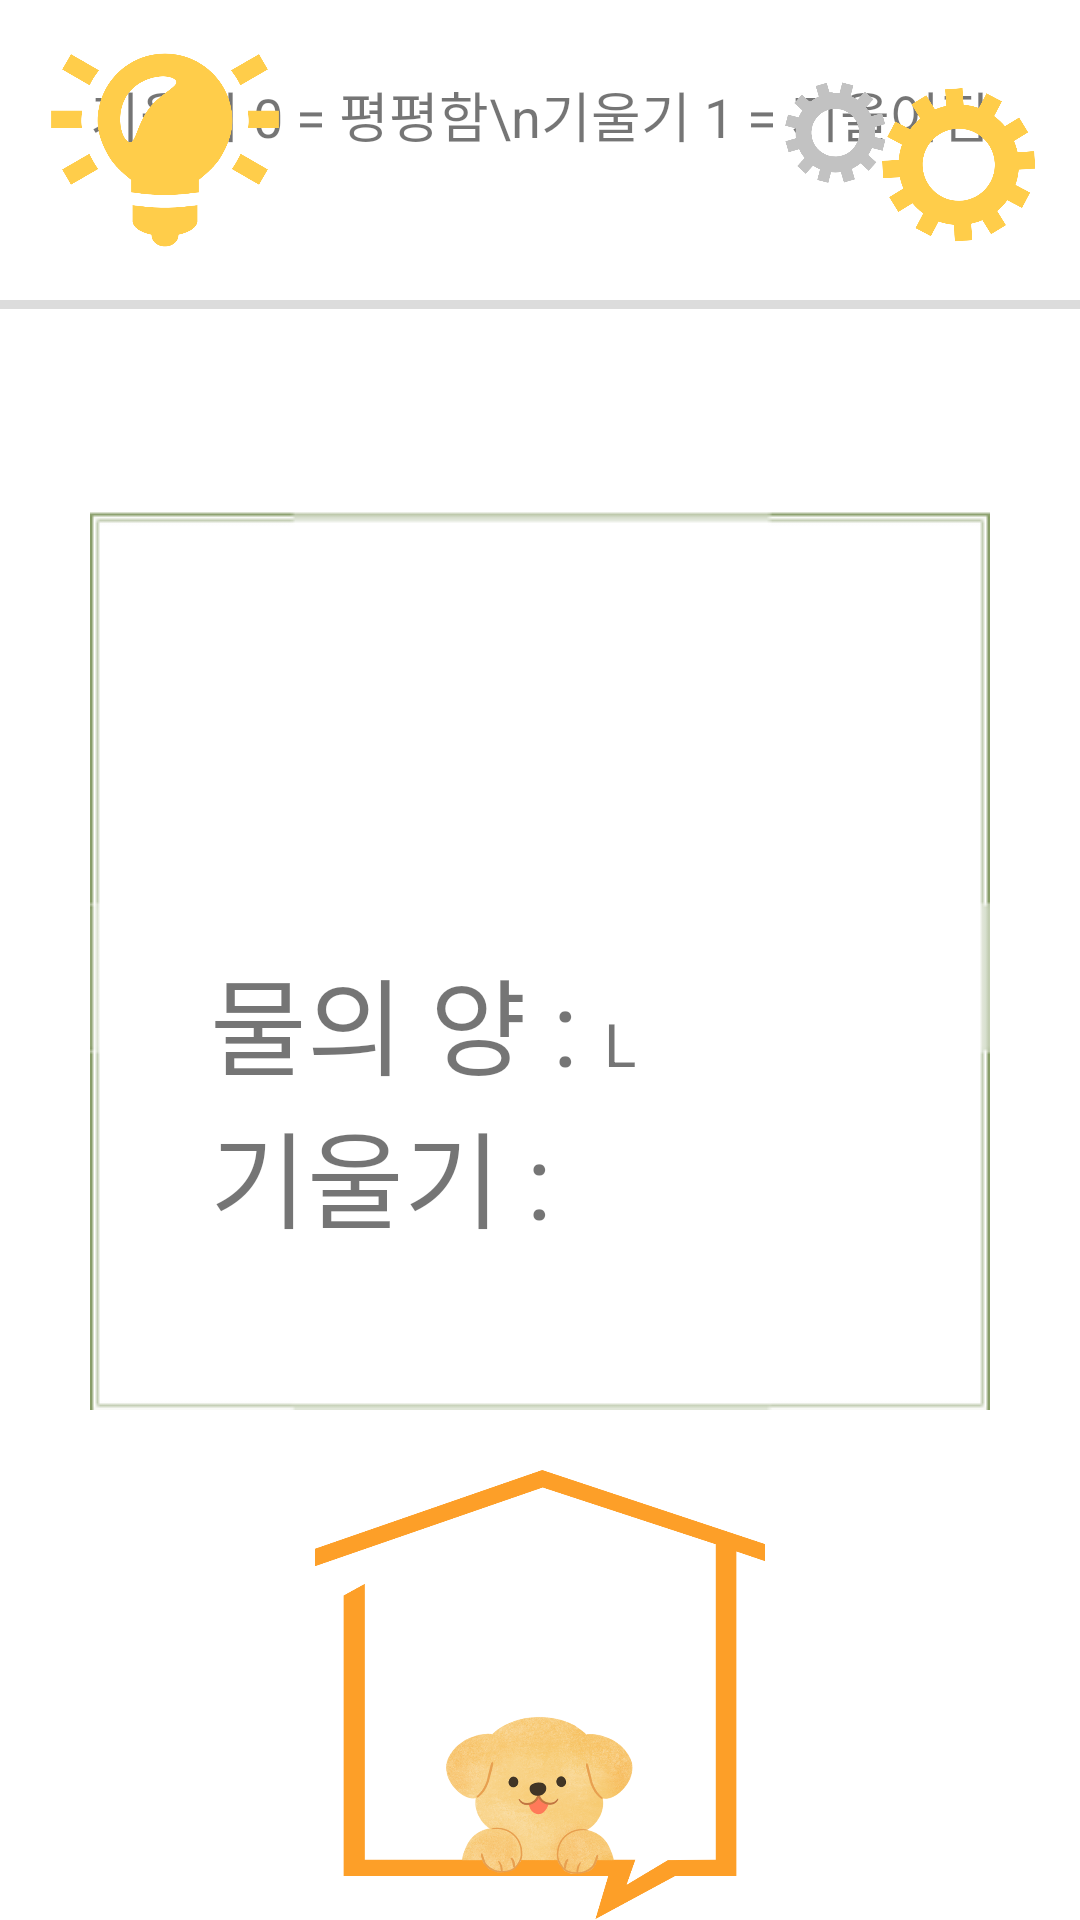

Icon click points for this 1080px x 1920px phone screenshot, format point (x, y):
setting: point (871, 162)
tip: point (186, 150)
